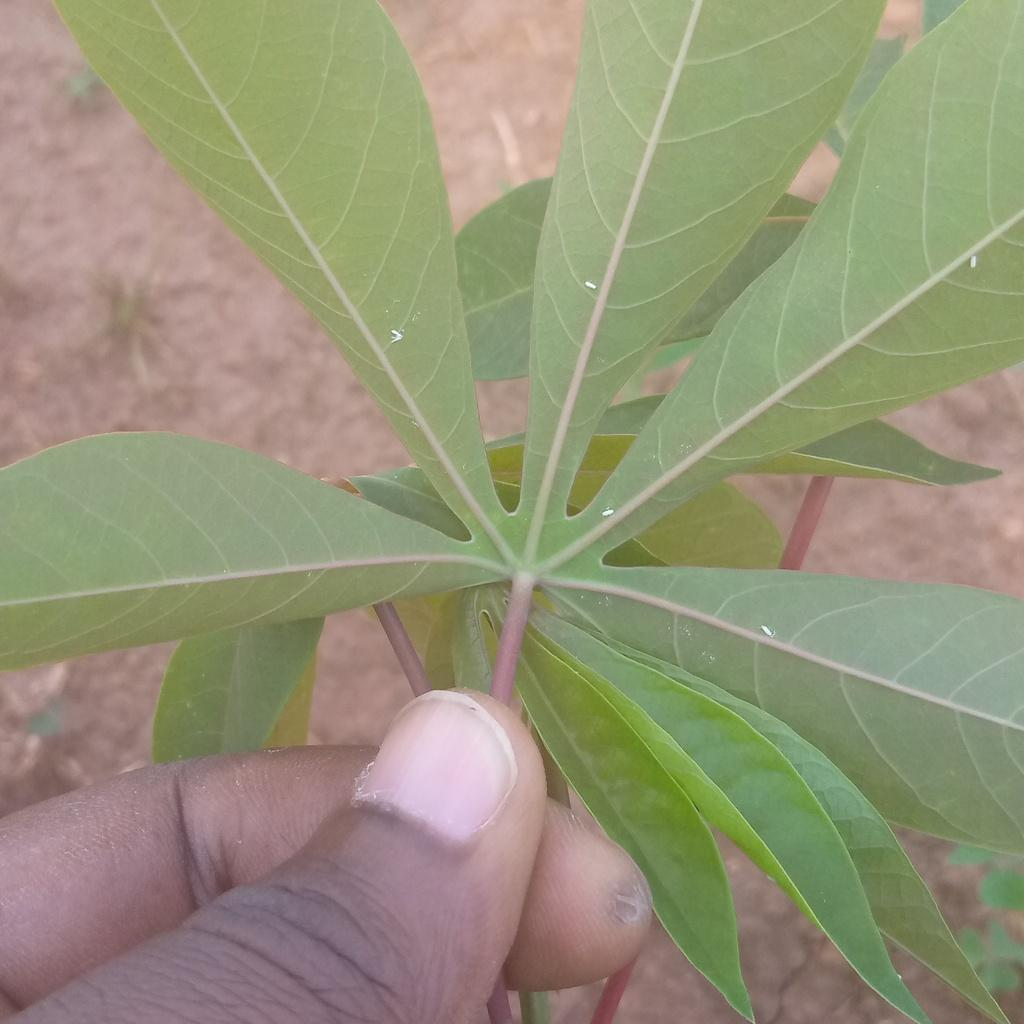adult: (389, 329, 403, 343), (584, 280, 597, 290), (761, 625, 772, 636), (602, 508, 614, 517), (970, 255, 978, 268)
